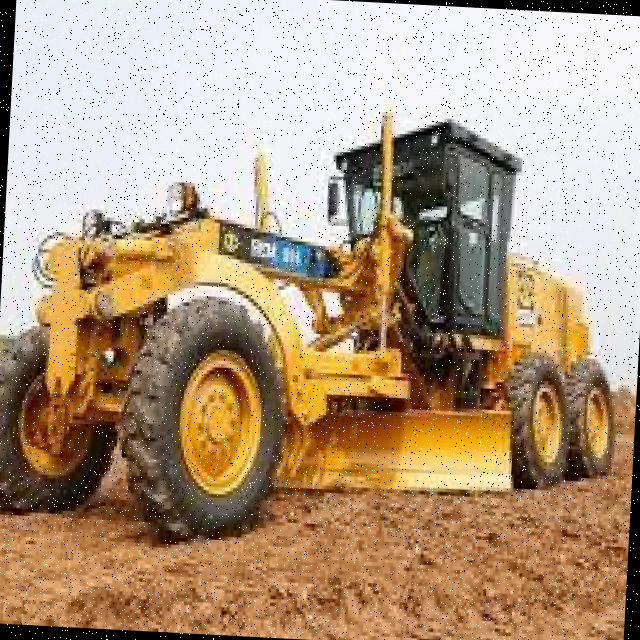Grader: (0, 64, 640, 571)
